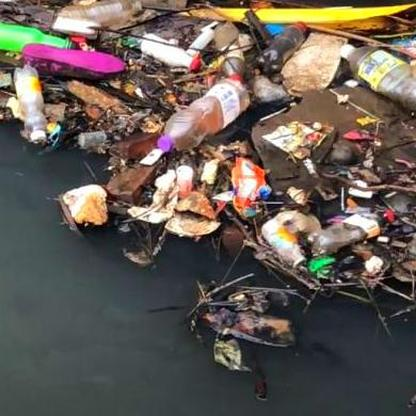plastic bottle: (158, 78, 251, 154), (340, 43, 416, 103), (308, 210, 395, 252), (13, 65, 46, 143), (259, 22, 307, 70), (1, 23, 74, 54), (262, 220, 309, 268), (140, 34, 201, 70), (61, 1, 143, 21)
